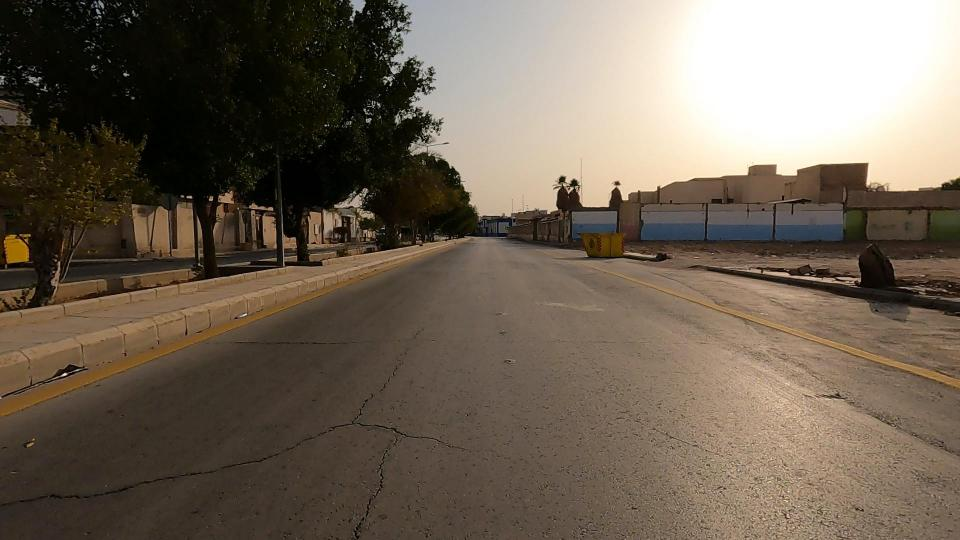GARBAGE: (801, 208, 960, 335), (533, 189, 670, 289), (753, 229, 852, 301), (604, 228, 712, 286)
